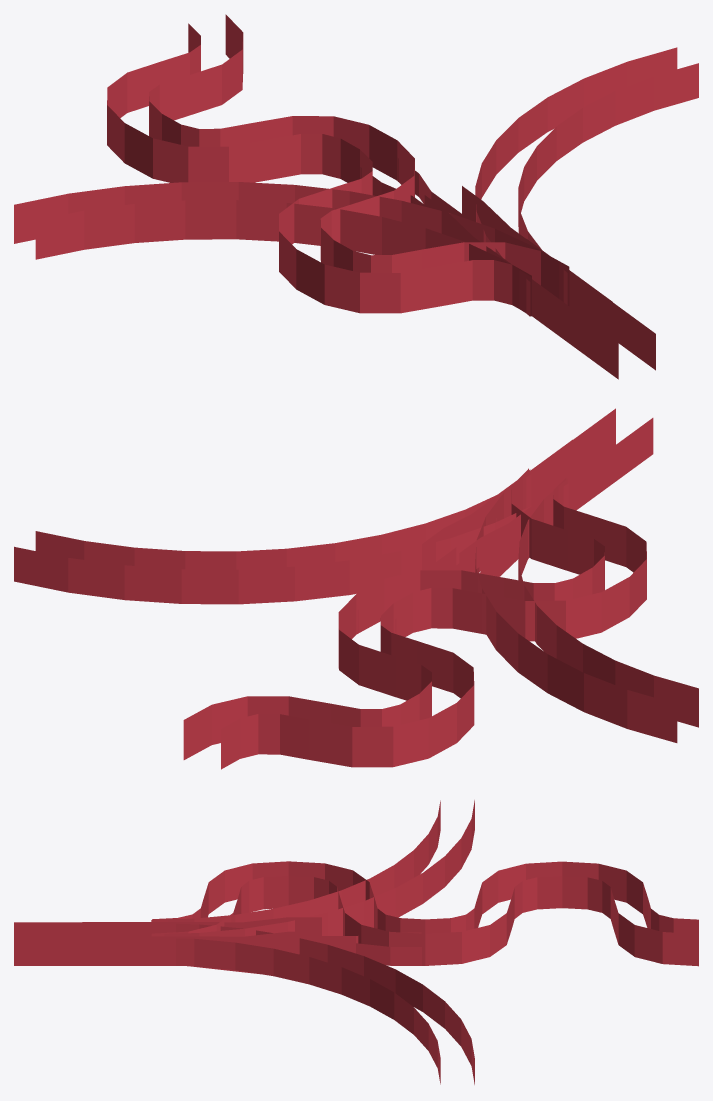
File: collisions.fbx
The picture shows the model from 3 angles, top to bottom: view 1: azimuth 30°, elevation 25°; view 2: azimuth 150°, elevation 25°; view 3: azimuth 270°, elevation 25°; orthographic projection. The views are drawn at different scales.
Visible parts, largest first — view 1: Scurve_collision, bigCurve_left_collision, bigCurve_right_collision, straight_long_collision.001, straight_long_collision, slope_up_collision, narrow_collision; view 2: Scurve_collision, bigCurve_right_collision, bigCurve_left_collision, straight_long_collision.001, straight_long_collision, slope_up_collision; view 3: Scurve_collision, bigCurve_right_collision, bigCurve_left_collision, straight_long_collision.001, straight_short_collision, straight_long_collision, narrow_collision, slope_up_collision, slope_down_collision.
Part boxes in pixels (x1,y1,x2,y2): Scurve_collision: (107,14,569,315); bigCurve_left_collision: (14,182,568,316); bigCurve_right_collision: (475,47,698,316); straight_long_collision.001: (474,208,655,379); straight_long_collision: (483,214,655,378); slope_up_collision: (424,186,569,316); narrow_collision: (360,158,569,295); Scurve_collision: (183,468,646,769); bigCurve_right_collision: (14,474,568,604); bigCurve_left_collision: (475,469,698,742); straight_long_collision.001: (443,408,653,574); straight_long_collision: (470,415,652,574); slope_up_collision: (422,515,507,571); Scurve_collision: (152,861,698,966); bigCurve_right_collision: (176,923,474,1084); bigCurve_left_collision: (151,800,474,936); straight_long_collision.001: (14,922,287,965); straight_short_collision: (82,922,219,965); straight_long_collision: (14,926,287,965); narrow_collision: (151,932,421,965); slope_up_collision: (224,917,321,954); slope_down_collision: (151,933,257,973).
Bounding box in the file's own units: 17772 × 1469 × 20019.
